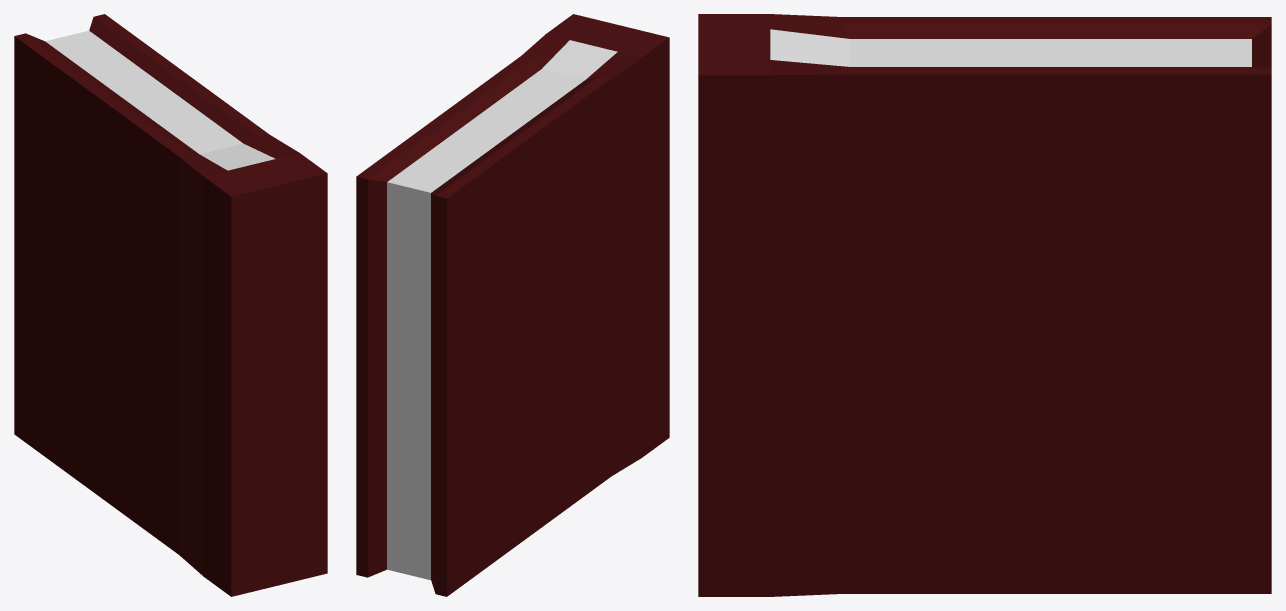
File: Book.fbx
3 renders of one model, left to right at view 1: azimuth 30°, elevation 25°; view 2: azimuth 150°, elevation 25°; view 3: azimuth 270°, elevation 25°, orthographic. The views are drawn at different scales.
Visible parts, largest first — view 1: Book; view 2: Book; view 3: Book.
Part boxes in pixels (x1,y1,x2,y2): Book: [14, 14, 327, 596]; Book: [356, 14, 669, 596]; Book: [698, 14, 1271, 596].
Bounding box in the file's own units: 50.55 × 201 × 200.
